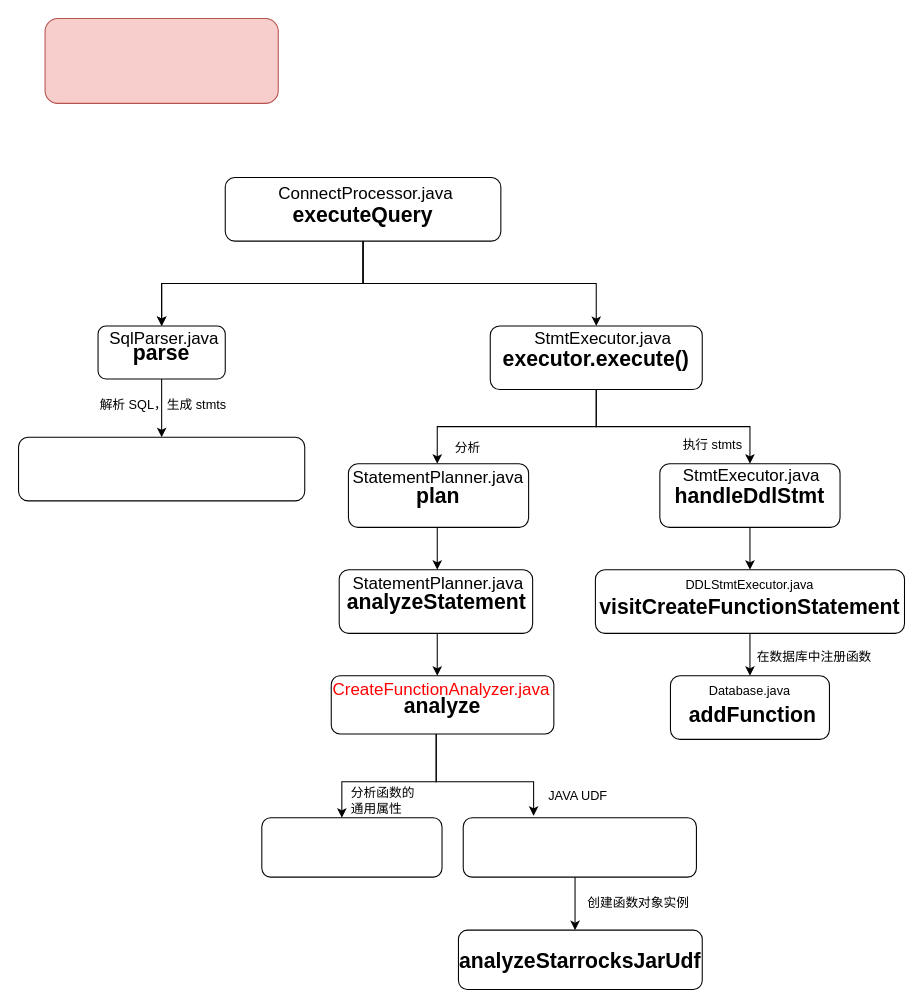
This 923x1008 diagram has some shape labels left out. The shapes that lost their labels are listed below. From the top down, each one's centre as x and y in pixels, then its label:
At point (161, 60): "SR create function".
At point (161, 468): "parseWithStarRocksDialect".
At point (351, 847): "analyzeCommon".
At point (579, 847): "analyzeJavaUDFClass".
